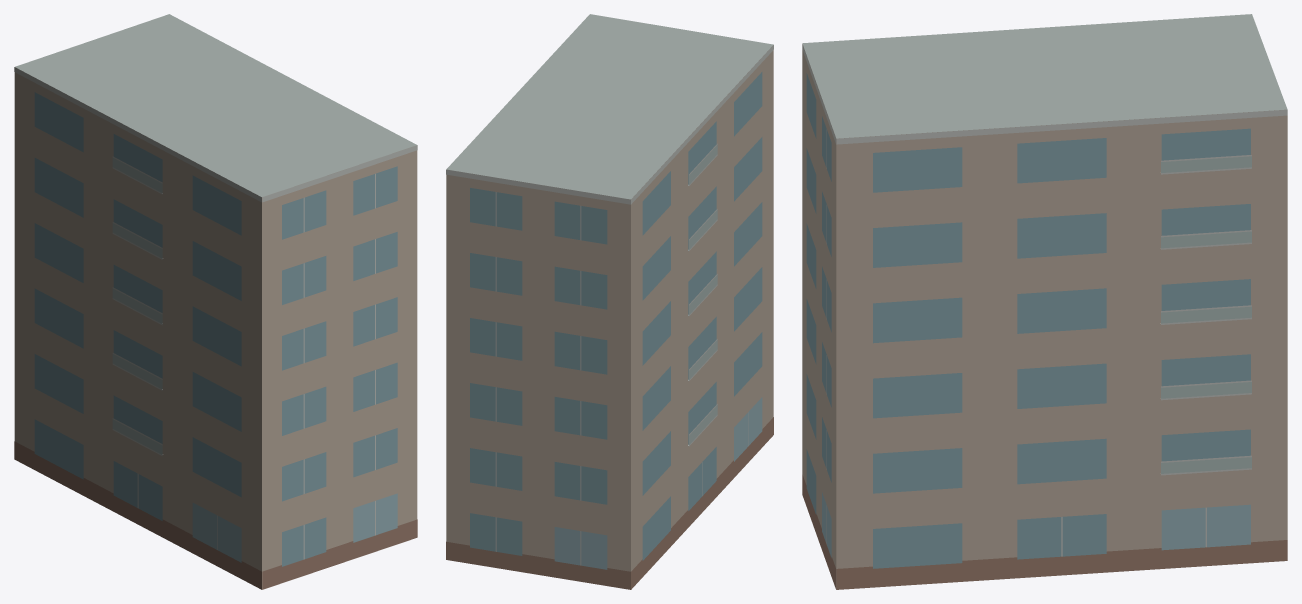
File: survey-upis-32575381.glb
3 views of the same model, side by side, from view 1: azimuth 30°, elevation 25°; view 2: azimuth 150°, elevation 25°; view 3: azimuth 270°, elevation 25° (orthographic). The views are drawn at different scales.
Parts seen in each view (by area): view 1: survey-upis-32575381.tmp; view 2: survey-upis-32575381.tmp; view 3: survey-upis-32575381.tmp.
Boxes of the visible parts, x1,y1,x2,y2 form: survey-upis-32575381.tmp: [14, 14, 417, 589]; survey-upis-32575381.tmp: [446, 14, 773, 589]; survey-upis-32575381.tmp: [802, 14, 1287, 589].
Bounding box in the file's own units: 10.96 × 18.5 × 18.04.
